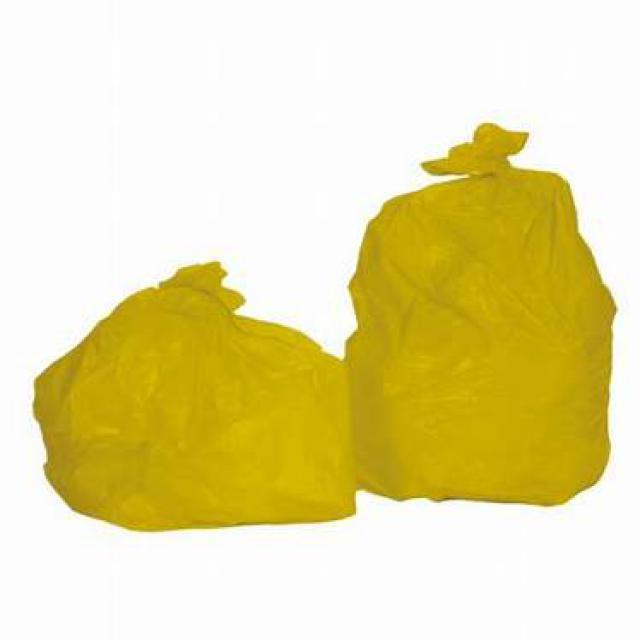waste: (350, 126, 604, 510), (34, 264, 358, 526)
